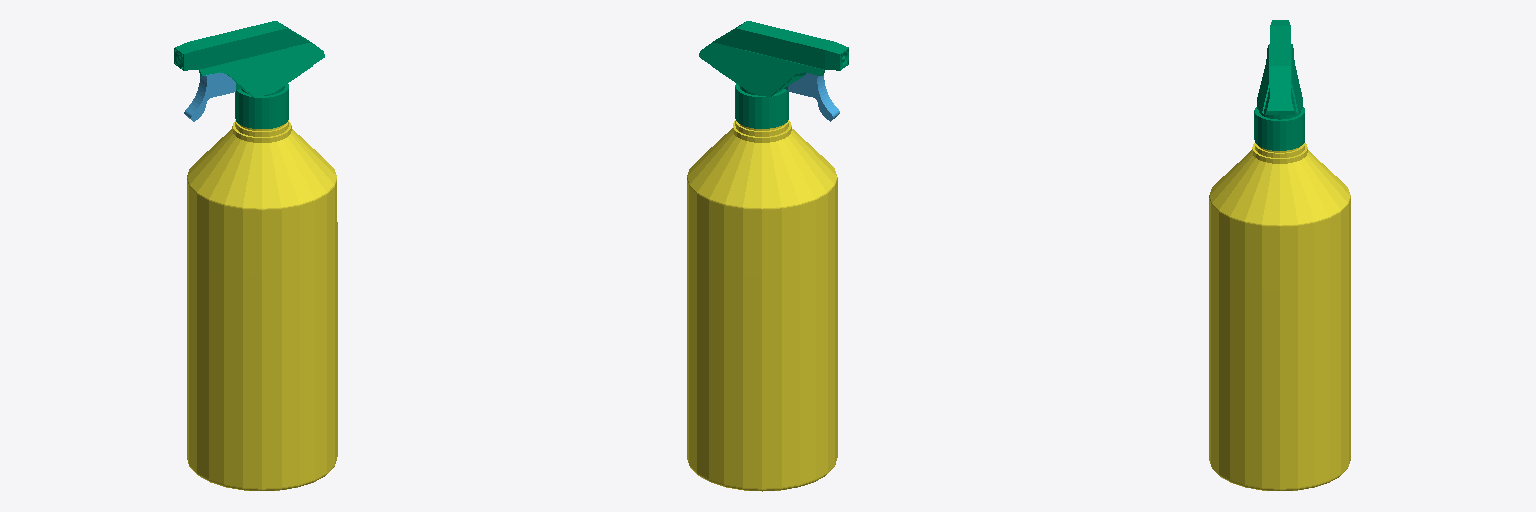
robot.urdf — partnet_e27e2864f9b54ca5bf9a3f8c45e44354:
<?xml version="1.0" ?>
<robot name="partnet_e27e2864f9b54ca5bf9a3f8c45e44354">
	<link name="base"/>
	<link name="link_0">
		<visual name="handle-1">
			<origin xyz="-0.030375000000000263 -0.823748013051608 -0.15447603996149561"/>
			<geometry>
				<mesh filename="textured_objs/original-5.obj"/>
			</geometry>
		</visual>
		<collision>
			<origin xyz="-0.030375000000000263 -0.823748013051608 -0.15447603996149561"/>
			<geometry>
				<mesh filename="textured_objs/original-5.obj"/>
			</geometry>
		</collision>
	</link>
	<joint name="joint_0" type="revolute">
		<origin xyz="0.0244558505733485 0.823748013051608 0.1646802698159997"/>
		<axis xyz="1 0 0"/>
		<child link="link_0"/>
		<parent link="link_1"/>
		<limit lower="-0.0" upper="1.0471975511965976"/>
	</joint>
	<link name="link_1">
		<visual name="head-3">
			<origin xyz="-0.0059191494266517646 0 0.010204229854504095"/>
			<geometry>
				<mesh filename="textured_objs/original-3.obj"/>
			</geometry>
		</visual>
		<visual name="head-3">
			<origin xyz="-0.0059191494266517646 0 0.010204229854504095"/>
			<geometry>
				<mesh filename="textured_objs/original-6.obj"/>
			</geometry>
		</visual>
		<visual name="head-3">
			<origin xyz="-0.0059191494266517646 0 0.010204229854504095"/>
			<geometry>
				<mesh filename="textured_objs/original-4.obj"/>
			</geometry>
		</visual>
		<collision>
			<origin xyz="-0.0059191494266517646 0 0.010204229854504095"/>
			<geometry>
				<mesh filename="textured_objs/original-3.obj"/>
			</geometry>
		</collision>
		<collision>
			<origin xyz="-0.0059191494266517646 0 0.010204229854504095"/>
			<geometry>
				<mesh filename="textured_objs/original-6.obj"/>
			</geometry>
		</collision>
		<collision>
			<origin xyz="-0.0059191494266517646 0 0.010204229854504095"/>
			<geometry>
				<mesh filename="textured_objs/original-4.obj"/>
			</geometry>
		</collision>
	</link>
	<joint name="joint_1" type="continuous">
		<origin xyz="0.0 0 0.0"/>
		<axis xyz="0 1 0"/>
		<child link="link_1"/>
		<parent link="link_1_helper"/>
	</joint>
	<link name="link_2">
		<visual name="base_body-4">
			<origin xyz="0 0 0"/>
			<geometry>
				<mesh filename="textured_objs/original-1.obj"/>
			</geometry>
		</visual>
		<collision>
			<origin xyz="0 0 0"/>
			<geometry>
				<mesh filename="textured_objs/original-1.obj"/>
			</geometry>
		</collision>
	</link>
	<joint name="joint_2" type="fixed">
		<origin rpy="1.570796326794897 0 -1.570796326794897" xyz="0 0 0"/>
		<child link="link_2"/>
		<parent link="base"/>
	</joint>
	<link name="link_1_helper"/>
	<joint name="joint_3" type="prismatic">
		<origin xyz="0.0059191494266517646 0 -0.010204229854504095"/>
		<axis xyz="0 1 0"/>
		<child link="link_1_helper"/>
		<parent link="link_2"/>
		<limit lower="0" upper="0.10000000000000009"/>
	</joint>
</robot>

--- What the picture shows (computed from the rendered views, not written in the file) ---
The picture shows the robot from 3 angles, left to right: view 1: azimuth 30°, elevation 25°; view 2: azimuth 150°, elevation 25°; view 3: azimuth 270°, elevation 25°; orthographic projection.
Robot: partnet_e27e2864f9b54ca5bf9a3f8c45e44354 — 5 links, 4 joints (1 revolute, 1 continuous, 1 prismatic, 1 fixed); root link base; default pose: every joint at zero.
Visible links, largest first — view 1: link_2, link_1, link_0; view 2: link_2, link_1, link_0; view 3: link_2, link_1.
Boxes of the visible links, x1,y1,x2,y2 form: link_2: (187, 120, 337, 490); link_1: (174, 21, 324, 128); link_0: (184, 72, 235, 121); link_2: (687, 120, 837, 491); link_1: (699, 21, 848, 128); link_0: (788, 73, 839, 121); link_2: (1209, 143, 1350, 490); link_1: (1254, 20, 1304, 150).
Size in the robot's own frame: 0.6058 by 0.5345 by 1.69 metres.
Meshes: 5 distinct files referenced, 5 mesh visuals loaded (5 OBJ).